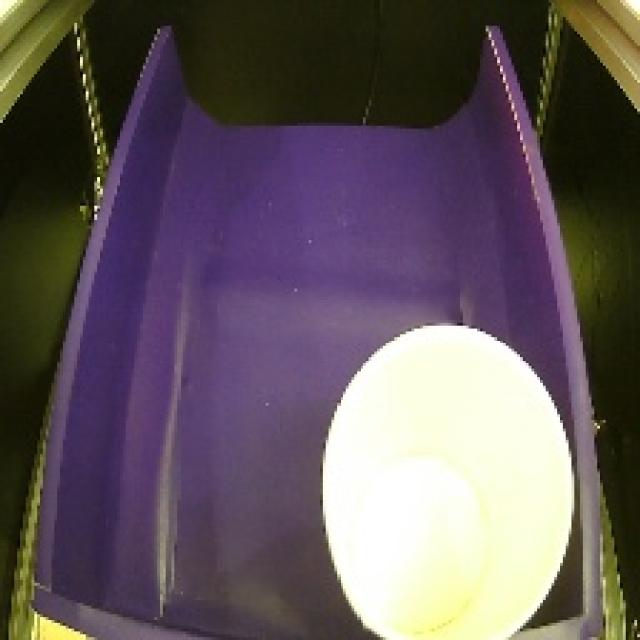cups: (309, 312, 586, 640)
